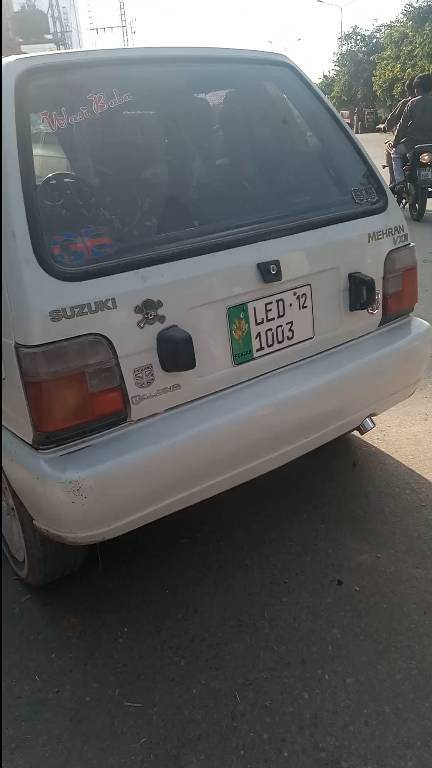number_plate: (228, 284, 342, 362)
